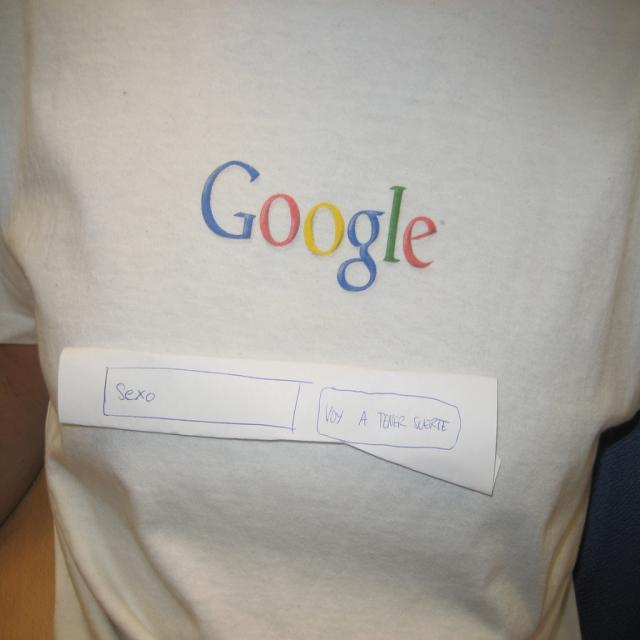google: (198, 157, 445, 302)
